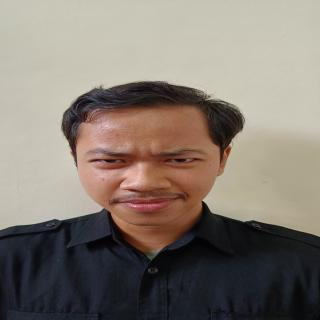Marah: (71, 97, 235, 230)
